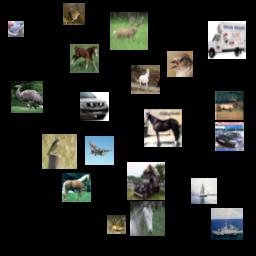airplane: (85, 136, 114, 165)
automobile: (80, 92, 109, 121), (215, 122, 244, 151), (8, 21, 24, 37)
bird: (42, 134, 77, 169), (11, 81, 43, 113), (167, 51, 193, 77), (63, 3, 85, 25)
deer: (110, 12, 148, 50), (215, 91, 244, 120)
frog: (107, 215, 126, 234)
ship: (211, 208, 243, 240), (191, 178, 217, 204)
truck: (208, 21, 246, 59), (127, 162, 165, 200)
